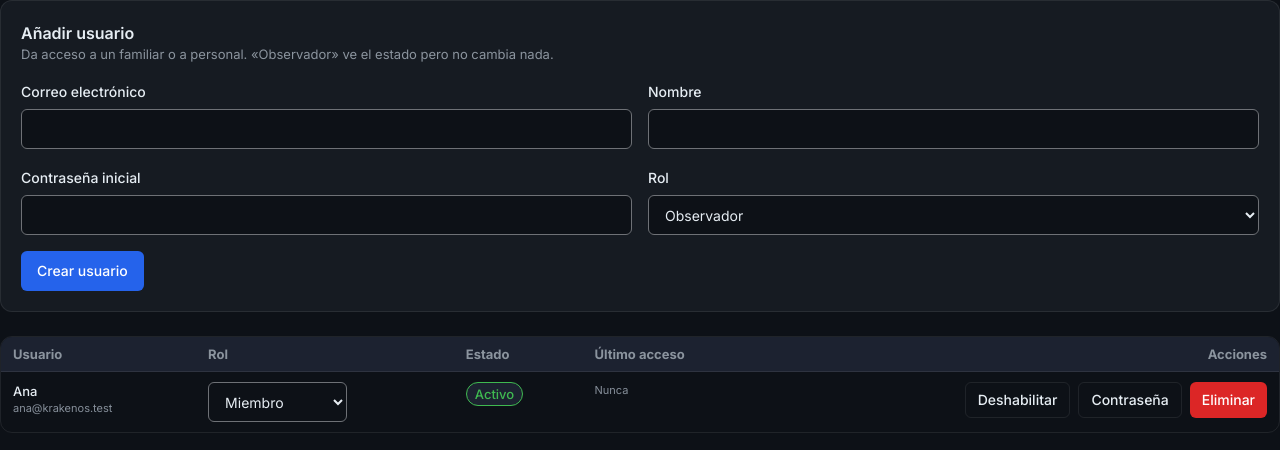
Test: UsersSection: borrar un usuario › con una operación en vuelo sobre el usuario, «Eliminar» está deshabilitado
expect the text "ana@krakenos.test" is shown: met, box [13, 401, 112, 415]
expect the button with aria-label "Eliminar a ana@krakenos.test" is enabled: met, box [1190, 382, 1267, 418]
What coordinates should you click on to do the following:
click the button "Deshabilitar"
I would click on:
 (1018, 400)
Its box is [965, 382, 1070, 418].
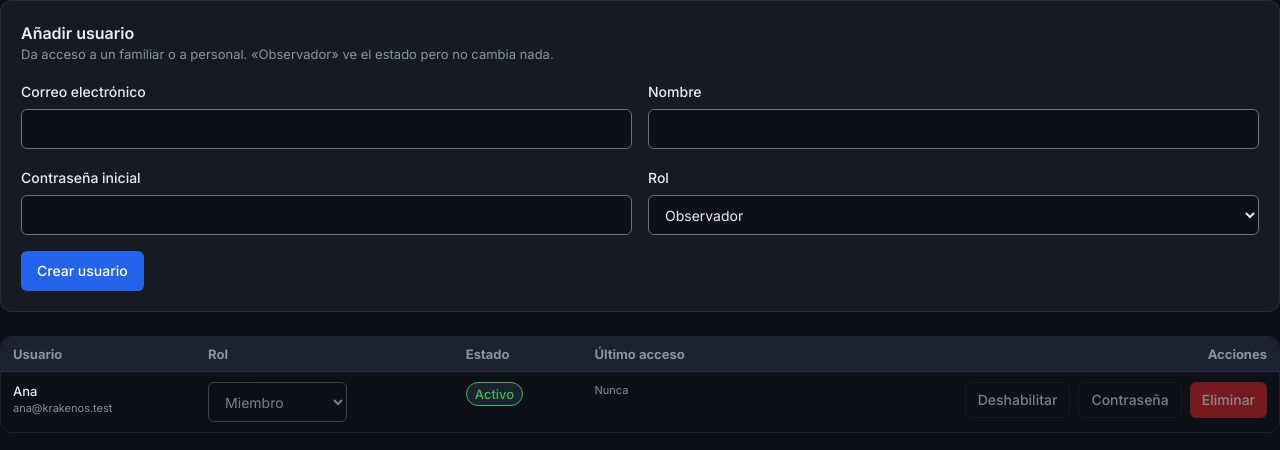
expect the button with aria-label "Eliminar a ana@krakenos.test" is disabled: met, box [1190, 382, 1267, 418]
